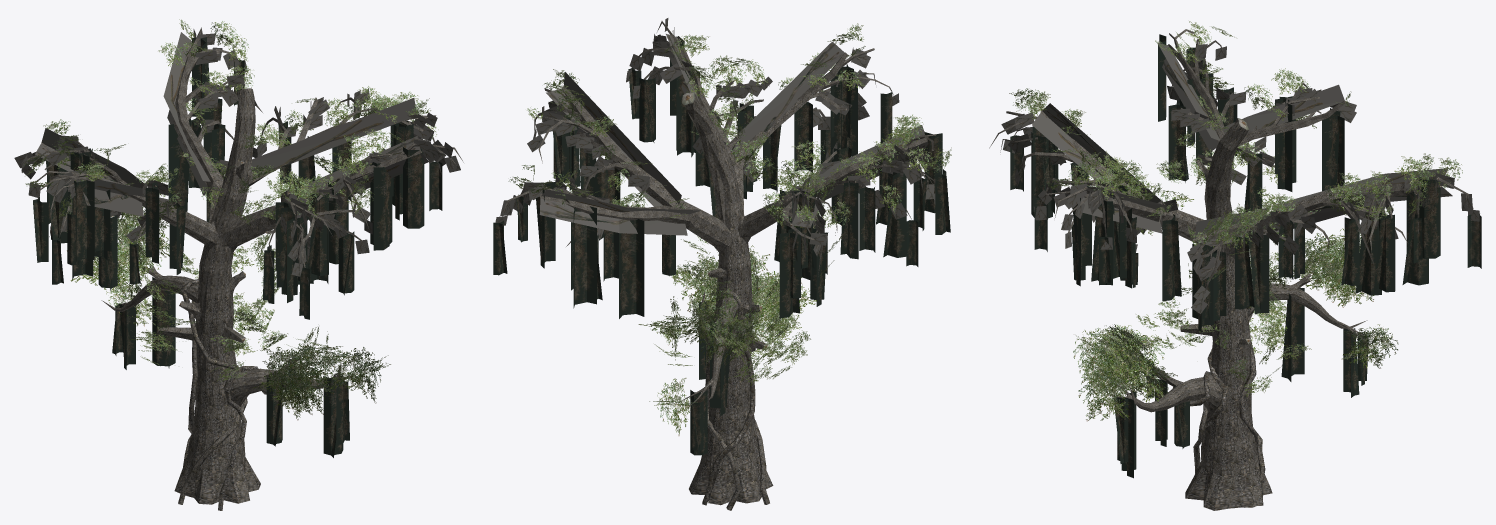
File: tree07.FBX
3 views of the same model, side by side, from view 1: azimuth 30°, elevation 25°; view 2: azimuth 150°, elevation 25°; view 3: azimuth 270°, elevation 25° (orthographic).
Parts seen in each view (by area): view 1: objmesh_xu01, objmesh_LiveOakBark, objmesh_LiveOakLeaves_1, objmesh_Branches_01; view 2: objmesh_xu01, objmesh_LiveOakBark, objmesh_LiveOakLeaves_1, objmesh_Branches_01; view 3: objmesh_xu01, objmesh_LiveOakBark, objmesh_LiveOakLeaves_1, objmesh_Branches_01.
Boxes of the visible parts, bbox=[...] form: objmesh_xu01: bbox=[33, 37, 442, 457]; objmesh_LiveOakBark: bbox=[27, 28, 463, 510]; objmesh_LiveOakLeaves_1: bbox=[23, 19, 438, 420]; objmesh_Branches_01: bbox=[14, 27, 460, 285]; objmesh_xu01: bbox=[493, 36, 950, 455]; objmesh_LiveOakBark: bbox=[501, 21, 942, 510]; objmesh_LiveOakLeaves_1: bbox=[508, 23, 951, 435]; objmesh_Branches_01: bbox=[495, 18, 935, 256]; objmesh_xu01: bbox=[1010, 34, 1481, 478]; objmesh_LiveOakBark: bbox=[989, 29, 1473, 510]; objmesh_LiveOakLeaves_1: bbox=[1009, 21, 1462, 421]; objmesh_Branches_01: bbox=[1001, 39, 1479, 313].
Bounding box in the file's own units: 34.76 × 34.77 × 31.67.
